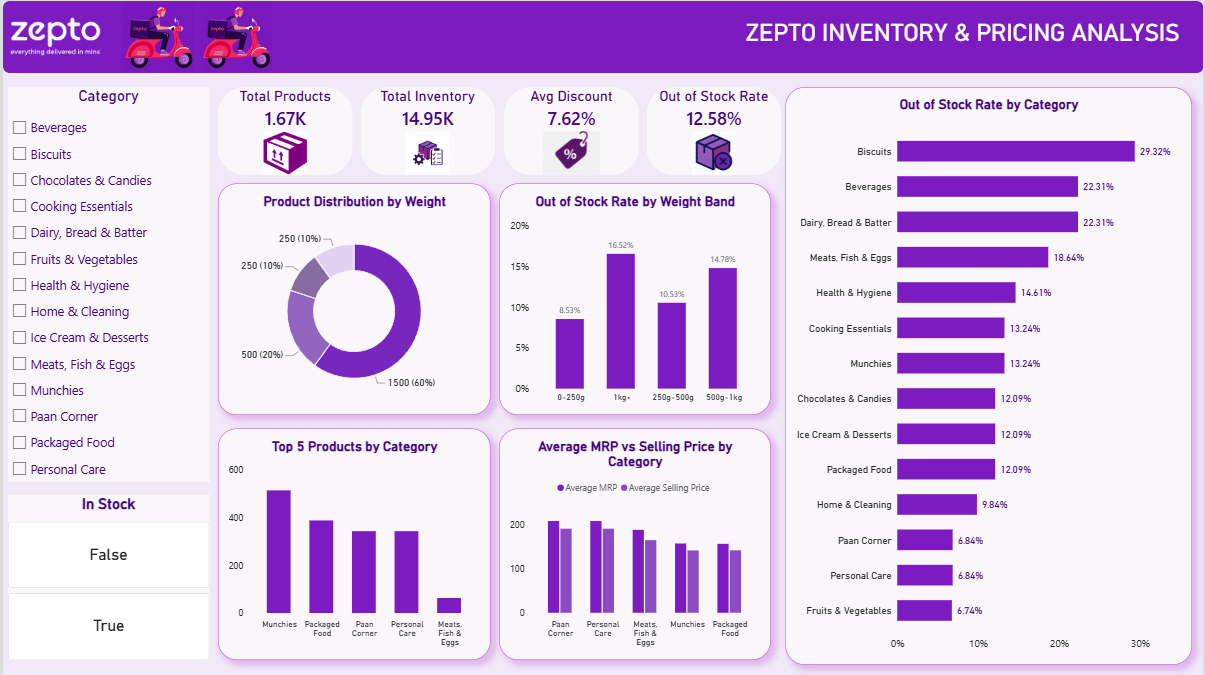

This screenshot's page, from the dashboard's own definition file:
{"tool":"powerbi","page":{"name":"new ","canvas":[1920,1080],"ordinal":2},"visuals":[{"type":"cardVisual","fields":{"Data":["Measures (2).Avg Discount"]},"box":[801.3,138,215,140],"z":0},{"type":"cardVisual","fields":{"Data":["Measures (2).Total Inventory"]},"box":[572.7,138,215,140],"z":1000},{"type":"shape","box":[0,0,1920.4,115.3],"z":2000},{"type":"textbox","box":[1179.4,28.8,710.1,59.7],"z":3000},{"type":"image","box":[0,0,168.8,115.3],"z":4000},{"type":"columnChart","title":"Top 5 Products by Category","fields":{"Category":["zepto_inventory.Category"],"Y":["CountNonNull(zepto_inventory.name)"]},"box":[344,684,436,370],"z":5000},{"type":"donutChart","title":"Product Distribution by Weight","fields":{"Category":["zepto_inventory.name"],"Y":["Sum(zepto_inventory.weightInGms)"]},"box":[344,292,436,370],"z":6000},{"type":"cardVisual","fields":{"Data":["Measures (2).Out of Stock Rate"]},"box":[1030,138,215,140],"z":7000},{"type":"cardVisual","fields":{"Data":["Measures (2).Total Products"]},"box":[344,138,215,140],"z":8000},{"type":"slicer","title":"Category","fields":{"Values":["zepto_inventory.Category"]},"box":[8,138,322,632],"z":9000},{"type":"advancedSlicerVisual","title":"In Stock","fields":{"Values":["zepto_inventory.outOfStock"]},"box":[8,790,322,264],"z":10000},{"type":"barChart","title":"Out of Stock Rate by Category","fields":{"Y":["Measures (2).Out of Stock Rate"],"Category":["zepto_inventory.Category"]},"box":[1252,138,650,924],"z":11000},{"type":"columnChart","title":"Out of Stock Rate by Weight Band","fields":{"Category":["zepto_inventory.Weight Band"],"Y":["Measures (2).Out of Stock Rate"]},"box":[794,292,434,370],"z":12000},{"type":"clusteredColumnChart","title":"Average MRP vs Selling Price by Category","fields":{"Category":["zepto_inventory.Category"],"Y":["Avg(zepto_inventory.mrp)","Avg(zepto_inventory.discountedSellingPrice)"]},"box":[794,684,434,370],"z":13000},{"type":"image","box":[192,0,114,116],"z":14000},{"type":"image","box":[316,0,114,116],"z":15000}]}

Visuals, with their boxes in screenshot pixels (x1, y1, x2, y2), scaled from the page's 1920x1080 canvas onto the 1205x675 screenshot:
cardVisual - Measures (2).Avg Discount: crop(503, 86, 638, 174)
cardVisual - Measures (2).Total Inventory: crop(359, 86, 494, 174)
shape: crop(0, 0, 1204, 72)
textbox: crop(740, 18, 1186, 55)
image: crop(0, 0, 106, 72)
"Top 5 Products by Category" columnChart: crop(216, 428, 490, 659)
"Product Distribution by Weight" donutChart: crop(216, 182, 490, 414)
cardVisual - Measures (2).Out of Stock Rate: crop(646, 86, 781, 174)
cardVisual - Measures (2).Total Products: crop(216, 86, 351, 174)
"Category" slicer: crop(5, 86, 207, 481)
"In Stock" advancedSlicerVisual: crop(5, 494, 207, 659)
"Out of Stock Rate by Category" barChart: crop(786, 86, 1194, 664)
"Out of Stock Rate by Weight Band" columnChart: crop(498, 182, 771, 414)
"Average MRP vs Selling Price by Category" clusteredColumnChart: crop(498, 428, 771, 659)
image: crop(120, 0, 192, 72)
image: crop(198, 0, 270, 72)
